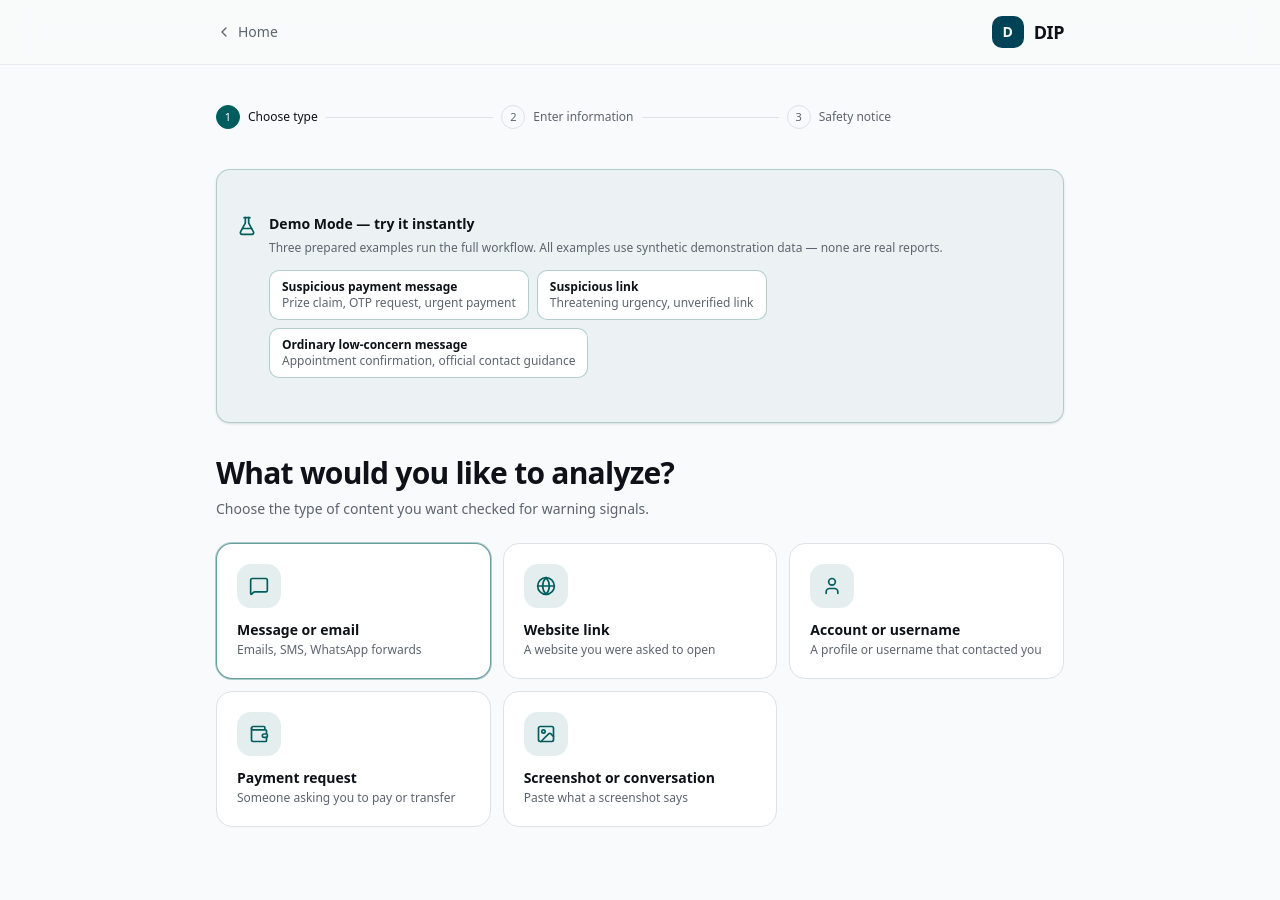
QA audit: DIP browser-level checks › 5–6. suspicious payment demo produces a result with a risk level
The width and height of the screenshot is (1280, 900).
Click the text "Suspicious payment message".
click(370, 286)  # box [282,278,458,294]
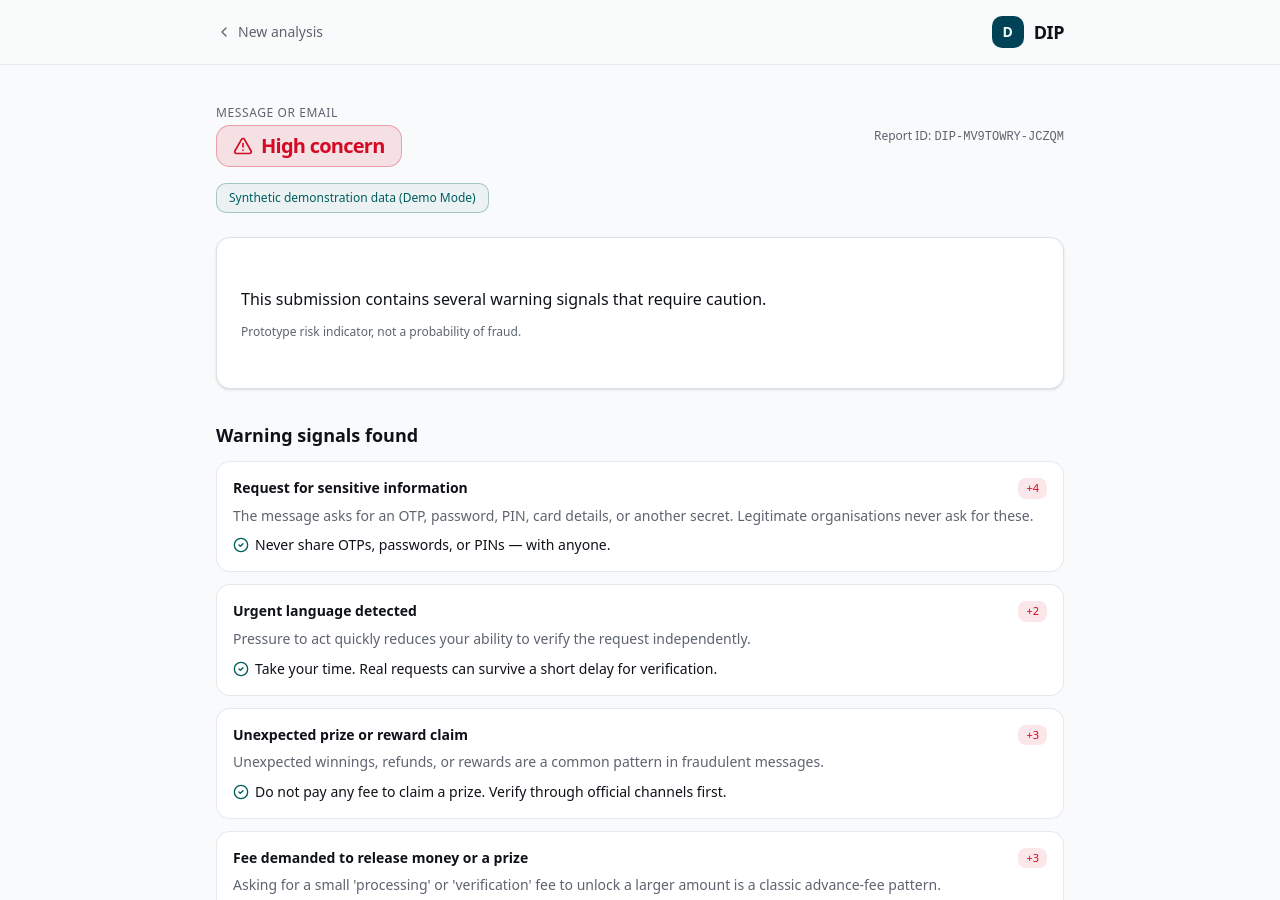
expect the text "High concern" is shown: met, box [216,125,402,167]
expect the text "Report ID:" is shown: met, box [874,126,934,144]
